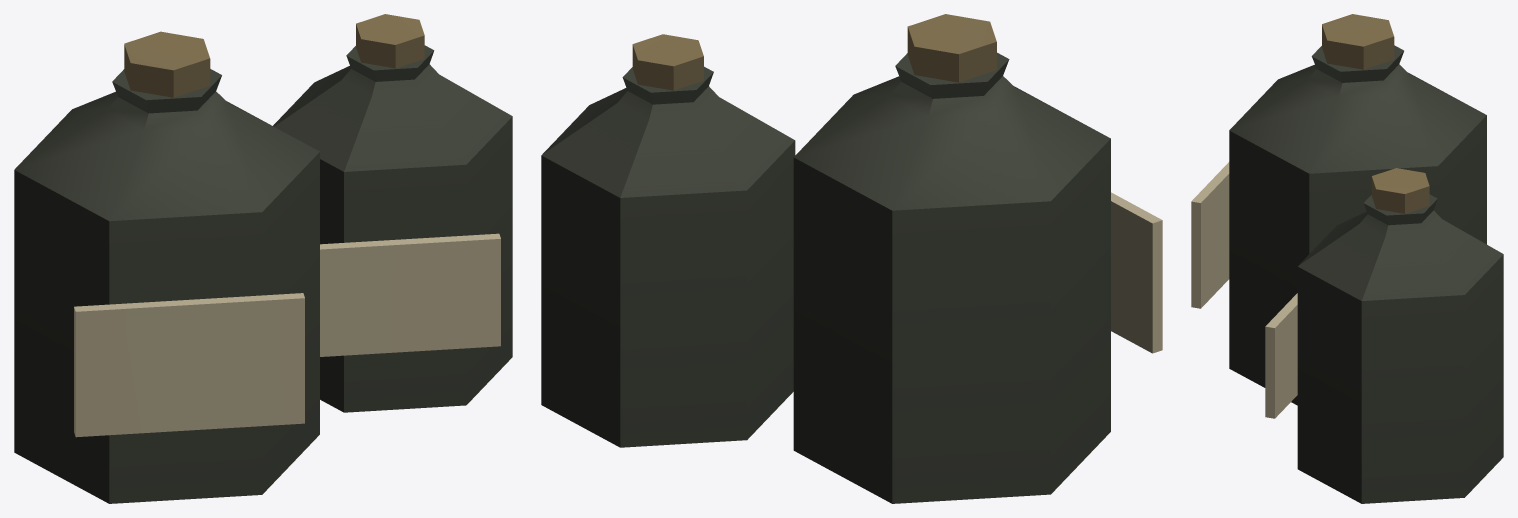
File: ph_item_antidote.glb
3 renders of one model, left to right at view 1: azimuth 30°, elevation 25°; view 2: azimuth 150°, elevation 25°; view 3: azimuth 270°, elevation 25°, orthographic. The views are drawn at different scales.
Parts seen in each view (by area): view 1: ph_item_antidote; view 2: ph_item_antidote; view 3: ph_item_antidote.
Part boxes in pixels (box(x1,y1,x2,y2)): ph_item_antidote: box(14, 14, 512, 503); ph_item_antidote: box(541, 14, 1162, 503); ph_item_antidote: box(1191, 14, 1503, 503).
Size of the model in its own units: 0.185 by 0.1442 by 0.1201.
